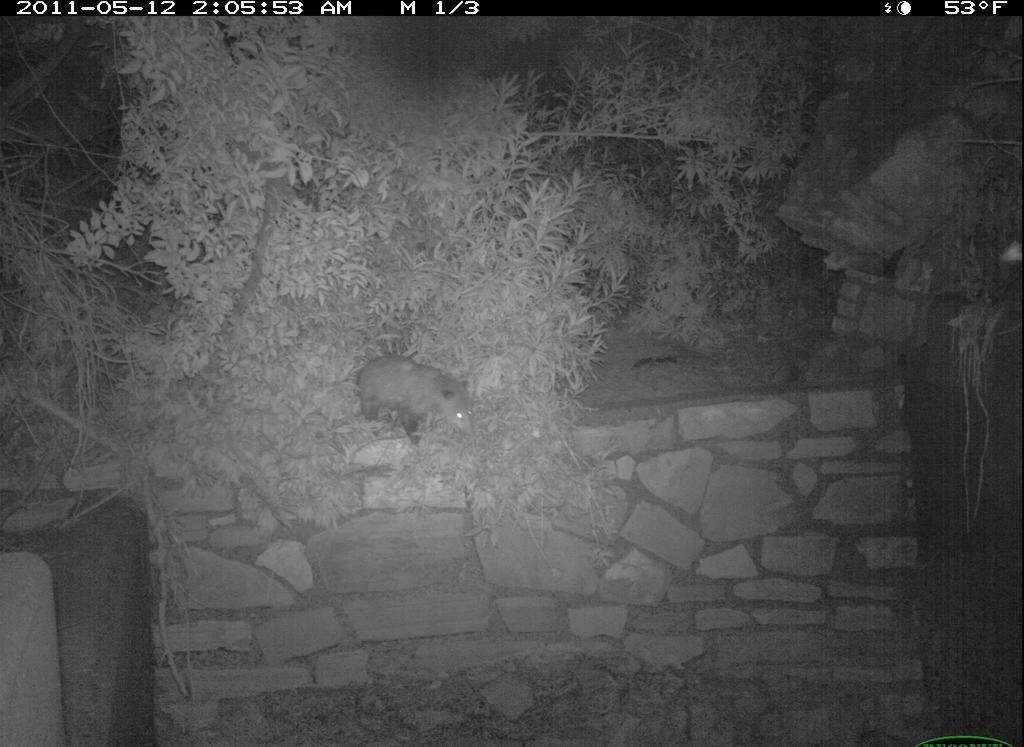opossum: (342, 346, 481, 451)
